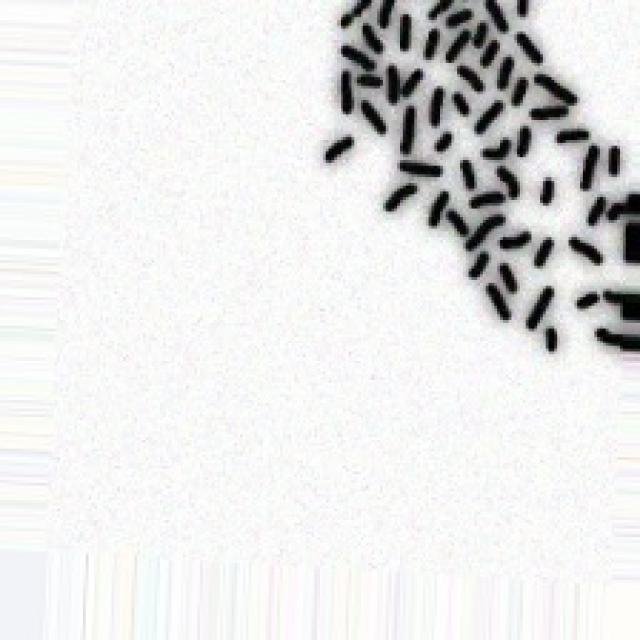Spiral_bacteria: (320, 0, 637, 360)
